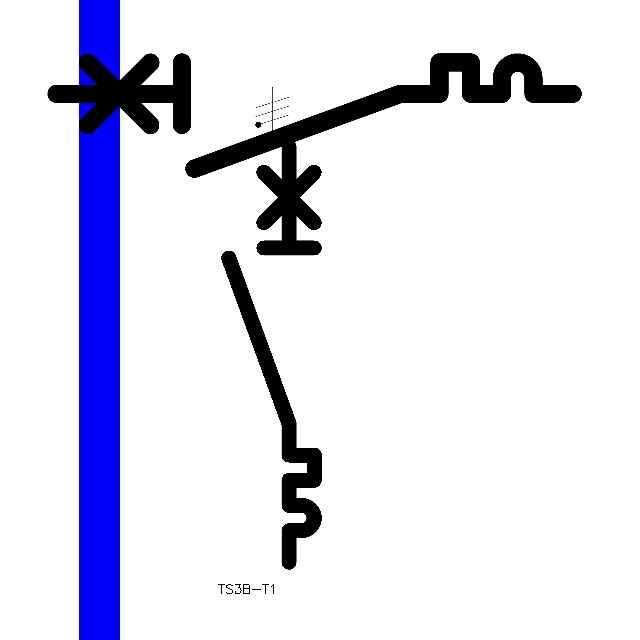interruptor_termomagnetico: (43, 49, 586, 182), (218, 136, 325, 573)
